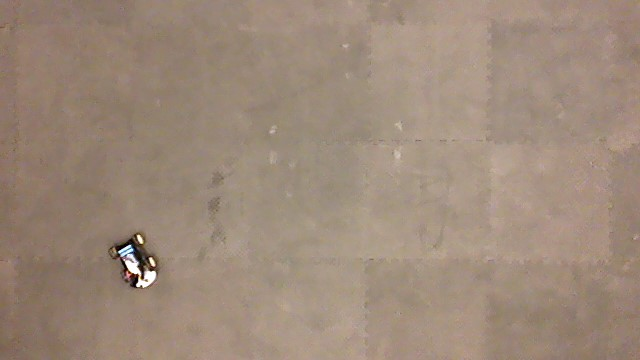Agent: (107, 231, 159, 291)
